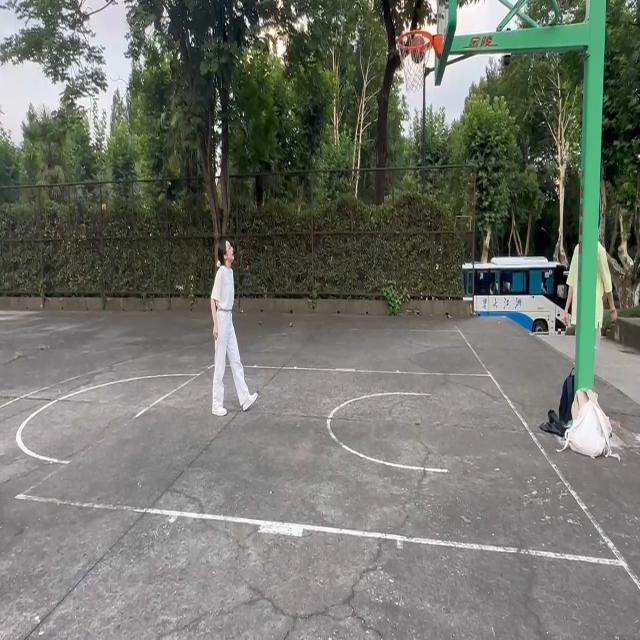basketball: (395, 34, 447, 130)
rim: (412, 36, 426, 64)
